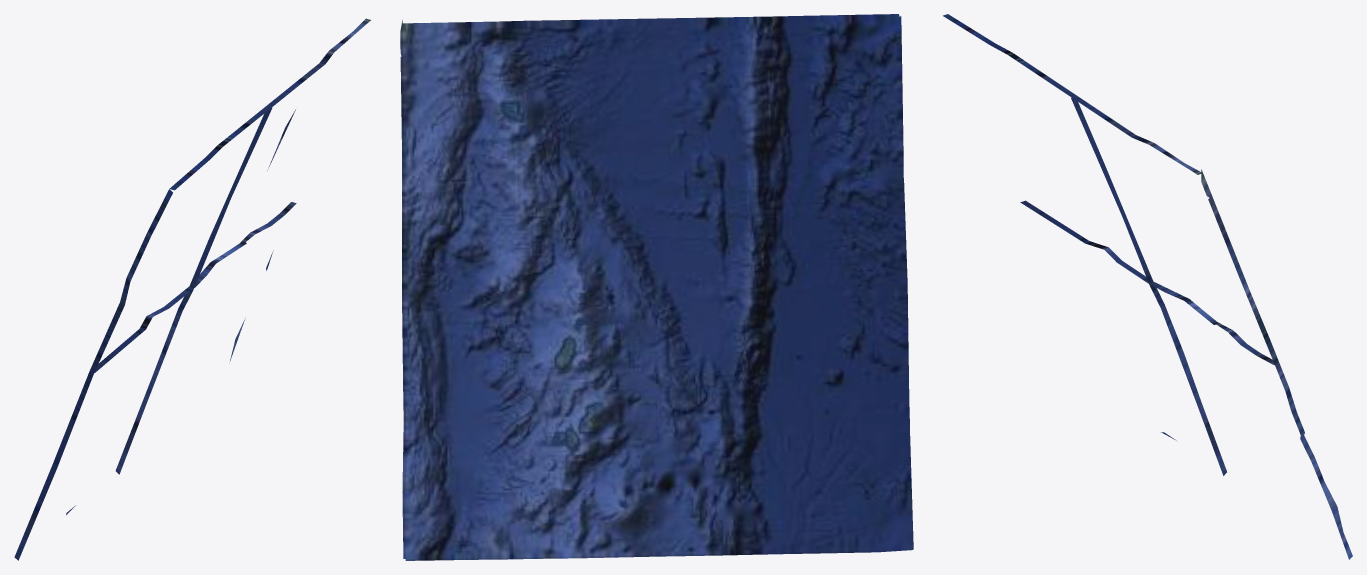
3 renders of one model, left to right at view 1: azimuth 30°, elevation 25°; view 2: azimuth 150°, elevation 25°; view 3: azimuth 270°, elevation 25°, orthographic. The views are drawn at different scales.
Bounding box in the file's own units: 307862 × 300304 × 258967.
1 material, 1 textured.
